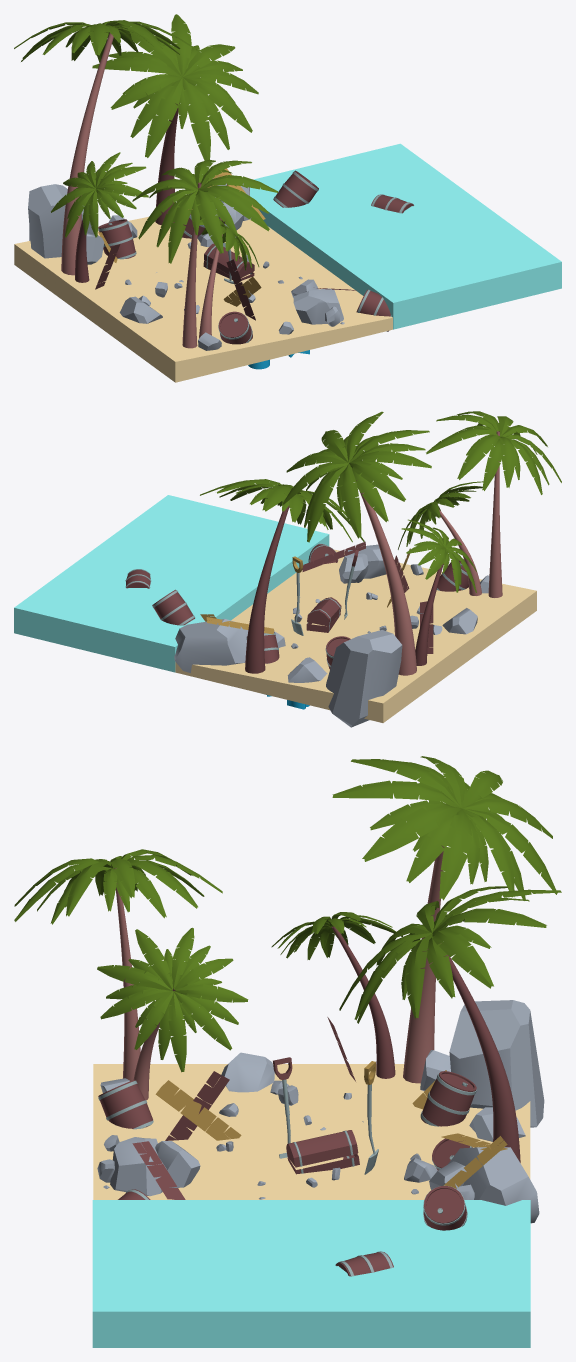
Rendered from island.glb.
3 views of the same model, one above another, from view 1: azimuth 30°, elevation 25°; view 2: azimuth 150°, elevation 25°; view 3: azimuth 270°, elevation 25° (orthographic). The views are drawn at different scales.
Parts seen in each view (by area): view 1: sea, sand, foliage, foliage.3, foliage.5, foliage.4, rock.010, trunk.4, rock.012, trunk.3, trunk, barrel.004 (+11 smaller); view 2: sea, sand, foliage.4, rock.010, foliage.3, rock.004, foliage, trunk.4, trunk, foliage.5, trunk.3, foliage.2 (+12 smaller); view 3: sea, sand, foliage.4, foliage.2, foliage, rock.010, foliage.3, rock.004, trunk, trunk.4, foliage.5, barrel (+16 smaller).
Boxes of the visible parts, bbox=[...] form: sea: bbox=[250, 143, 561, 329]; sand: bbox=[14, 216, 392, 382]; foliage: bbox=[92, 14, 258, 160]; foliage.3: bbox=[132, 159, 278, 263]; foliage.5: bbox=[51, 152, 148, 237]; foliage.4: bbox=[14, 20, 196, 62]; rock.010: bbox=[28, 184, 93, 258]; trunk.4: bbox=[61, 33, 113, 275]; rock.012: bbox=[293, 288, 343, 324]; trunk.3: bbox=[182, 182, 201, 348]; trunk: bbox=[155, 103, 179, 224]; barrel.004: bbox=[273, 170, 318, 207]; sea: bbox=[14, 495, 329, 672]; sand: bbox=[175, 549, 536, 722]; foliage.4: bbox=[283, 411, 431, 542]; rock.010: bbox=[326, 630, 402, 727]; foliage.3: bbox=[426, 411, 561, 494]; rock.004: bbox=[174, 618, 248, 672]; foliage: bbox=[200, 479, 364, 542]; trunk.4: bbox=[356, 480, 416, 675]; trunk: bbox=[245, 505, 289, 673]; foliage.5: bbox=[401, 519, 476, 592]; trunk.3: bbox=[488, 431, 502, 597]; foliage.2: bbox=[398, 481, 483, 549]; sea: bbox=[92, 1200, 530, 1347]; sand: bbox=[93, 1064, 530, 1199]; foliage.4: bbox=[332, 756, 557, 900]; foliage.2: bbox=[97, 927, 248, 1072]; foliage: bbox=[339, 886, 561, 1023]; rock.010: bbox=[449, 1000, 544, 1127]; foliage.3: bbox=[14, 849, 222, 924]; rock.004: bbox=[447, 1147, 539, 1223]; trunk: bbox=[441, 943, 520, 1162]; trunk.4: bbox=[403, 845, 444, 1083]; foliage.5: bbox=[271, 912, 402, 959]; barrel: bbox=[420, 1071, 476, 1126].
Size of what is drawn, in the model's own units: 10.25 by 6.83 by 8.75.
